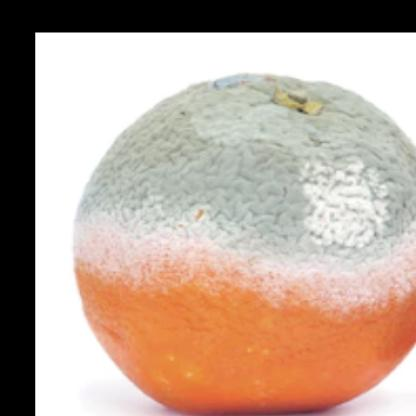rotten: (76, 74, 416, 416)
